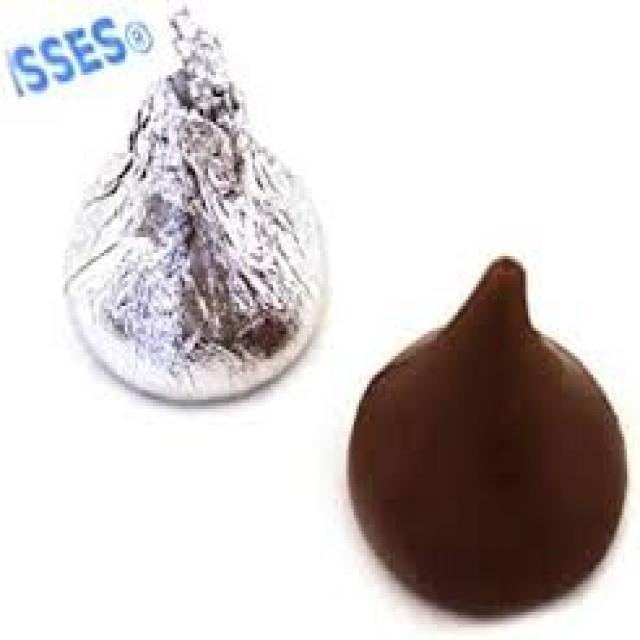kisses: (64, 7, 336, 402)
